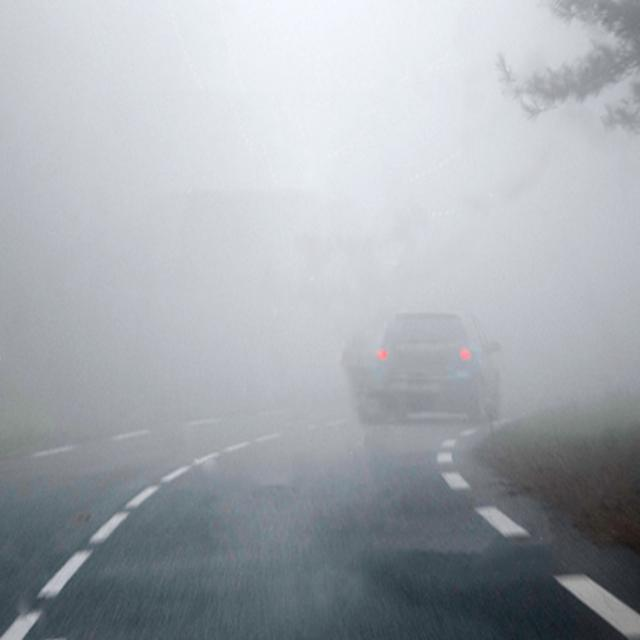car: (379, 308, 503, 423)
